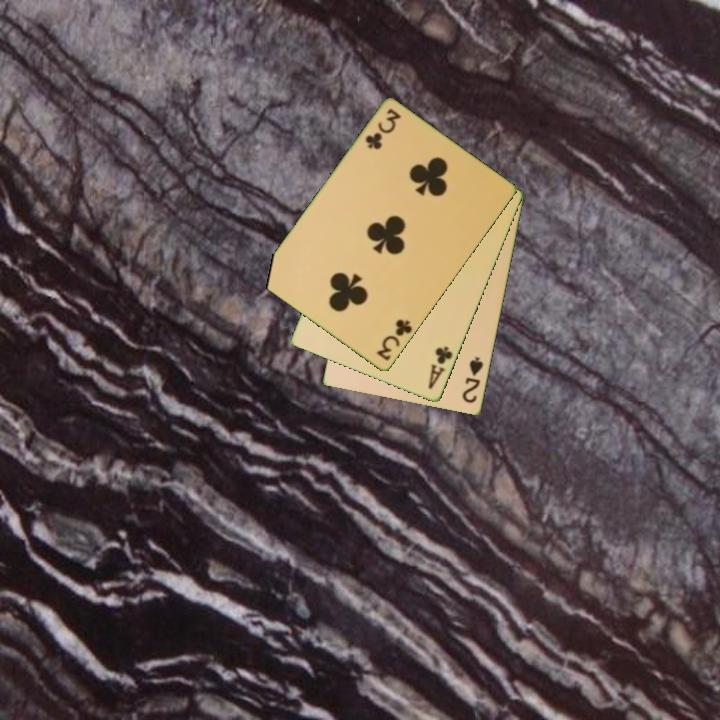2s: (459, 353, 486, 406)
3c: (361, 105, 404, 153), (373, 316, 415, 364)
Ac: (425, 343, 456, 392)
